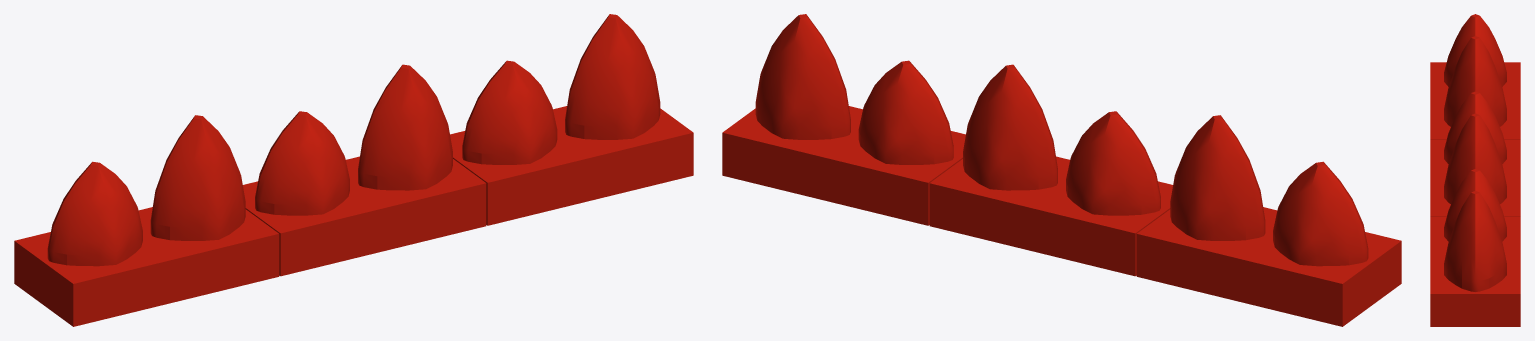
File: pinxos.dae
3 renders of one model, left to right at view 1: azimuth 30°, elevation 25°; view 2: azimuth 150°, elevation 25°; view 3: azimuth 270°, elevation 25°, orthographic. The views are drawn at different scales.
Visible parts, largest first — view 1: Inner-Node-pinxos_dot_io-0, Inner-Node-pinxos_dot_io-1, Inner-Node-pinxos_dot_io-2; view 2: Inner-Node-pinxos_dot_io-0, Inner-Node-pinxos_dot_io-1, Inner-Node-pinxos_dot_io-2; view 3: Inner-Node-pinxos_dot_io-2, Inner-Node-pinxos_dot_io-1, Inner-Node-pinxos_dot_io-0.
Part boxes in pixels (x1=…): Inner-Node-pinxos_dot_io-0: x1=14, y1=115, x2=279, y2=326; Inner-Node-pinxos_dot_io-1: x1=243, y1=64, x2=486, y2=276; Inner-Node-pinxos_dot_io-2: x1=450, y1=14, x2=693, y2=225; Inner-Node-pinxos_dot_io-0: x1=1136, y1=115, x2=1401, y2=326; Inner-Node-pinxos_dot_io-1: x1=929, y1=64, x2=1172, y2=276; Inner-Node-pinxos_dot_io-2: x1=722, y1=14, x2=965, y2=225; Inner-Node-pinxos_dot_io-2: x1=1430, y1=169, x2=1520, y2=326; Inner-Node-pinxos_dot_io-1: x1=1430, y1=91, x2=1520, y2=216; Inner-Node-pinxos_dot_io-0: x1=1430, y1=14, x2=1520, y2=139.
Size of the model in its own units: 120 by 27.75 by 19.75.
